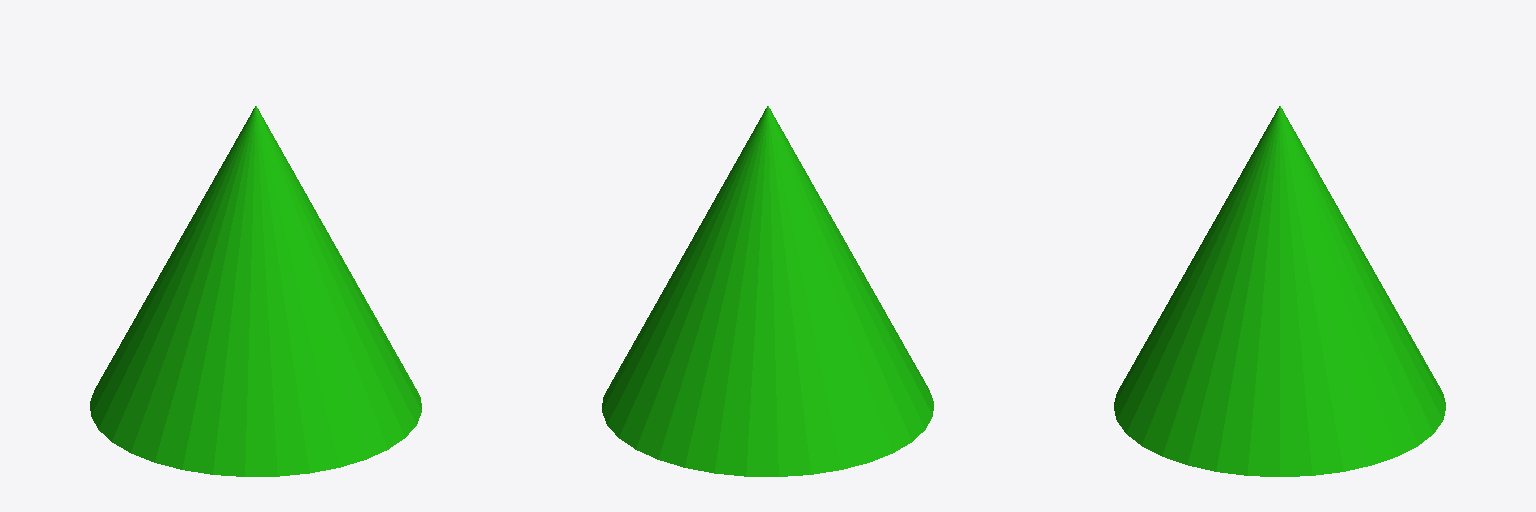
The model's file is green_cone.obj.
The picture shows the model from 3 angles: view 1: azimuth 30°, elevation 25°; view 2: azimuth 150°, elevation 25°; view 3: azimuth 270°, elevation 25°; orthographic projection.
Visible parts, largest first — view 1: Cone; view 2: Cone; view 3: Cone.
Boxes of the visible parts, x1=… form: Cone: x1=90, y1=106, x2=421, y2=476; Cone: x1=602, y1=106, x2=933, y2=476; Cone: x1=1114, y1=106, x2=1445, y2=476.
Bounding box in the file's own units: 2 × 2 × 2.